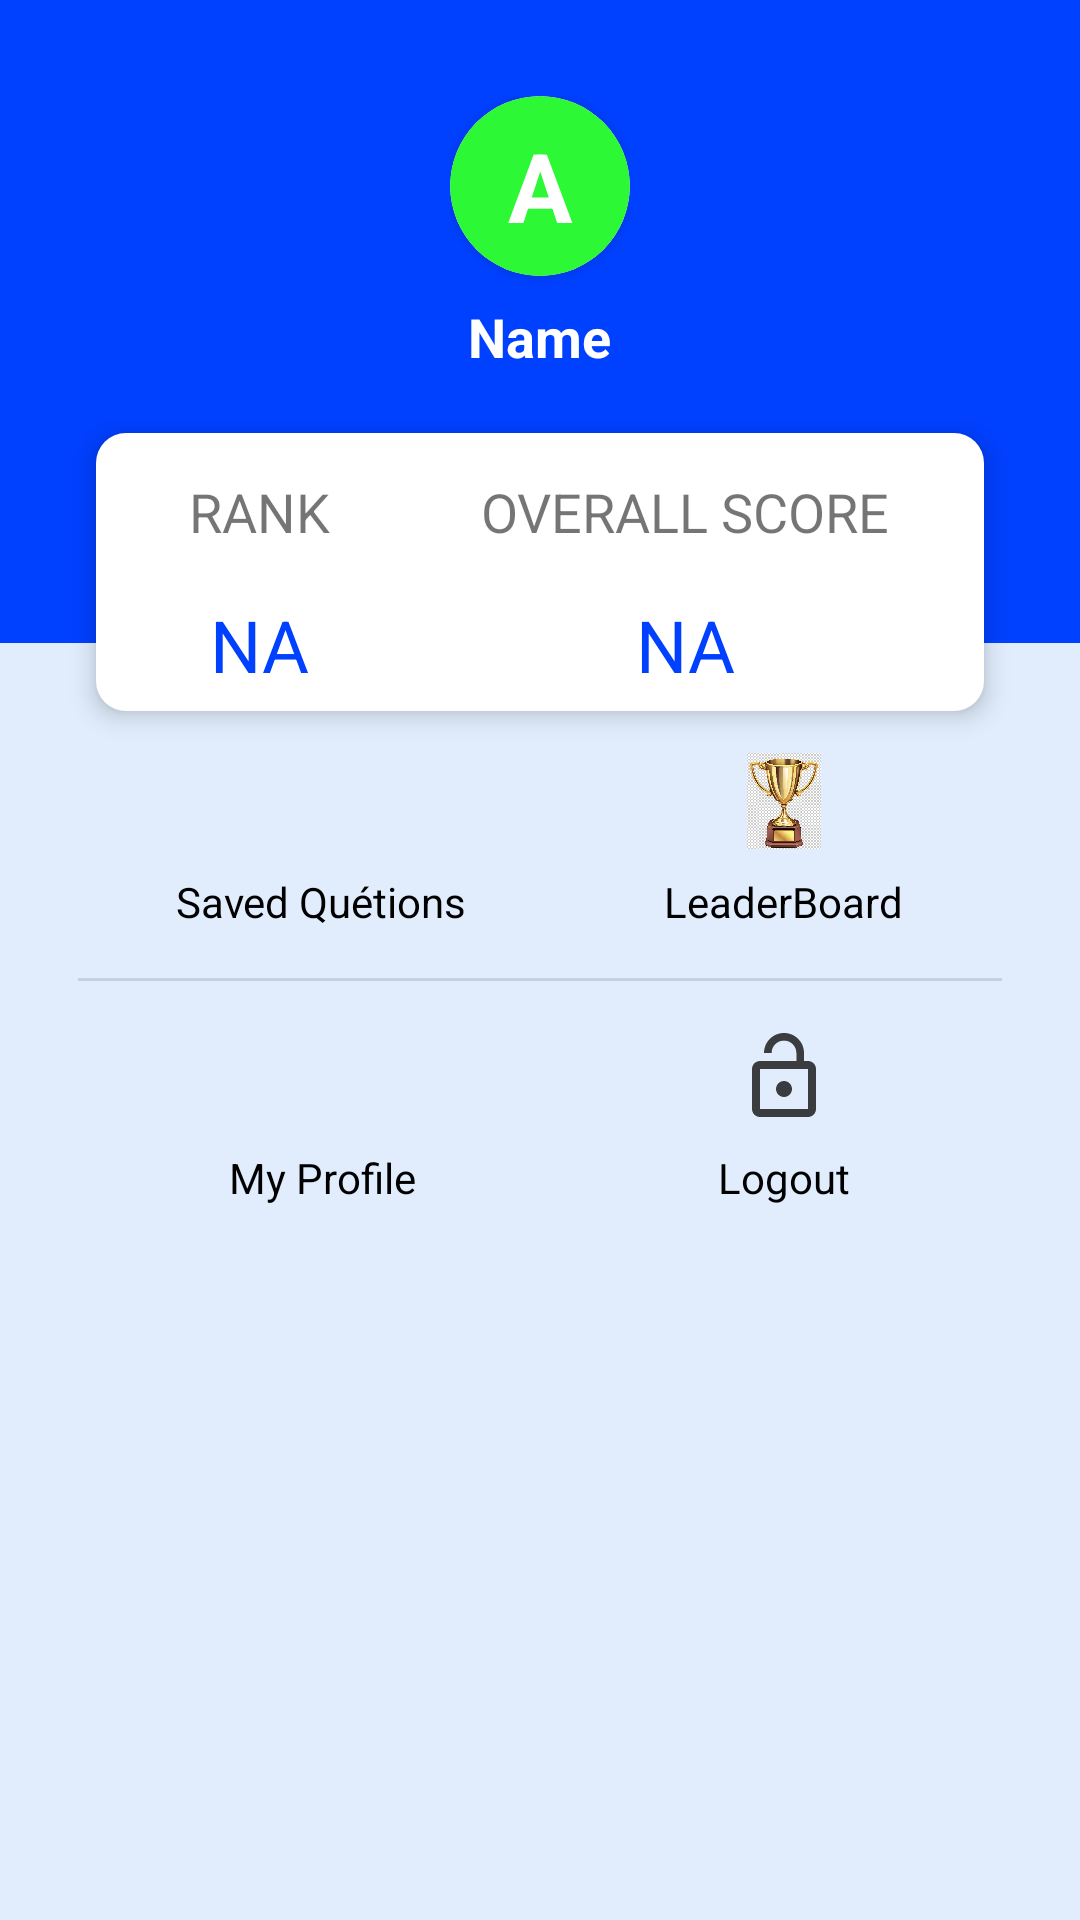

Named icons in this screenshot (1080 × 1920) and their bounding boxes, (x1, y1, x2, y2):
award: (747, 753, 821, 849)
